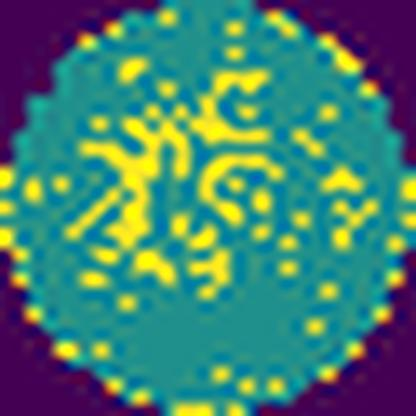Donut: (73, 61, 285, 316)
